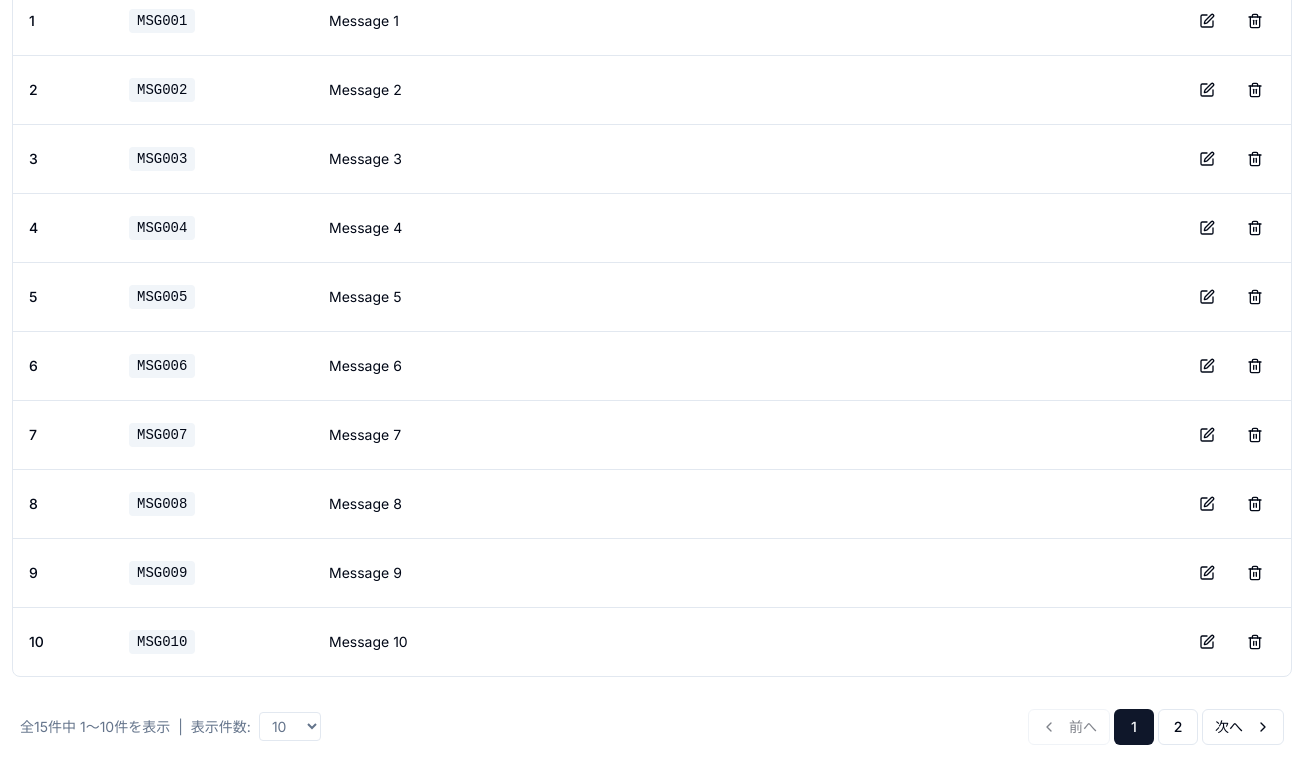
MessageTable › ページネーション › 10件以上のデータがある場合、ページネーションが機能する
(page scrolled)
Check: the text "MSG001" is shown, box [129, 9, 195, 33]
Check: the text "MSG010" is shown, box [129, 630, 195, 654]
# 次のページに移動
Step 1. Click the button "次へ" → [1243, 726], box [1202, 708, 1284, 744]
(page scrolled)
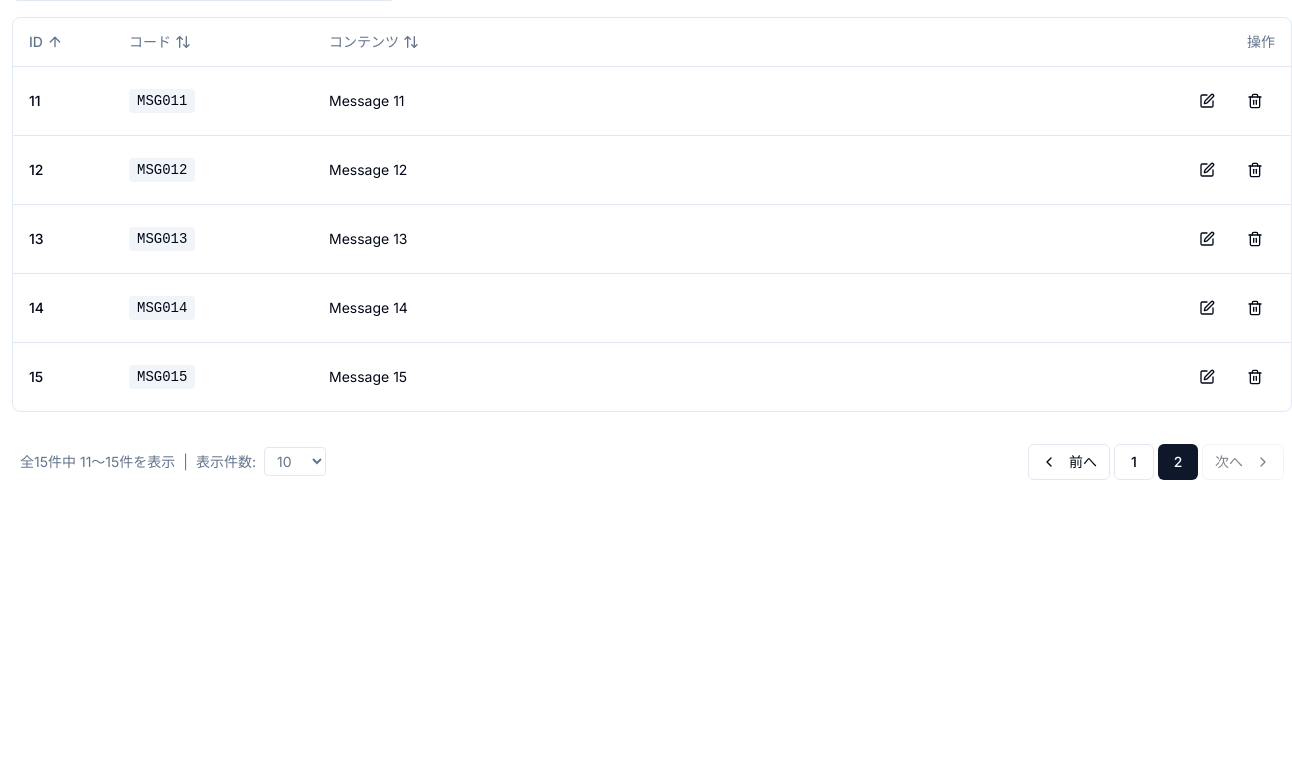
Check: the text "MSG001" is gone
Check: the text "MSG011" is shown, box [129, 89, 195, 113]
Check: the text "MSG015" is shown, box [129, 365, 195, 389]
